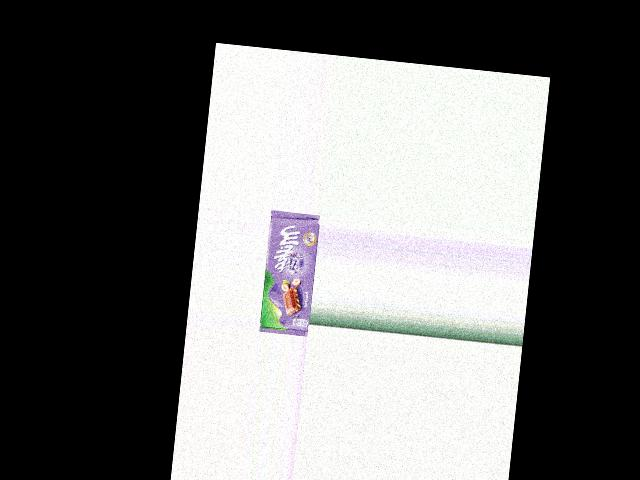chocolate: (259, 210, 321, 337)
